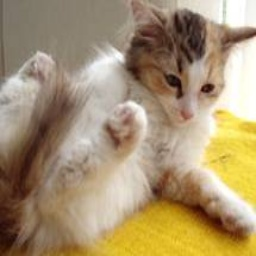cat: (2, 2, 253, 253)
